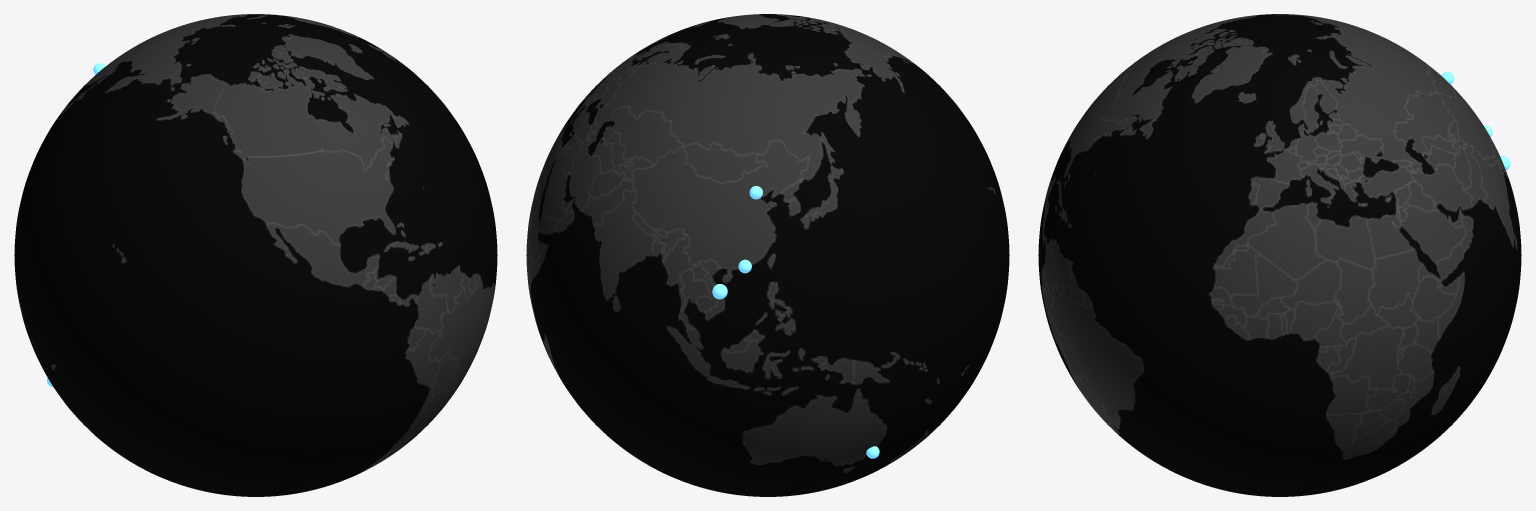
The model's file is globe.glb.
3 views of the same model, side by side, from view 1: azimuth 30°, elevation 25°; view 2: azimuth 150°, elevation 25°; view 3: azimuth 270°, elevation 25° (orthographic).
Visible parts, largest first — view 1: SolidMap; view 2: SolidMap; view 3: SolidMap.
Part boxes in pixels (x1,y1,x2,y2): SolidMap: [14, 14, 497, 496]; SolidMap: [526, 14, 1009, 496]; SolidMap: [1038, 14, 1521, 496].
Bounding box in the file's own units: 2 × 2 × 2.
Materials: 5 (1 with a texture image).
